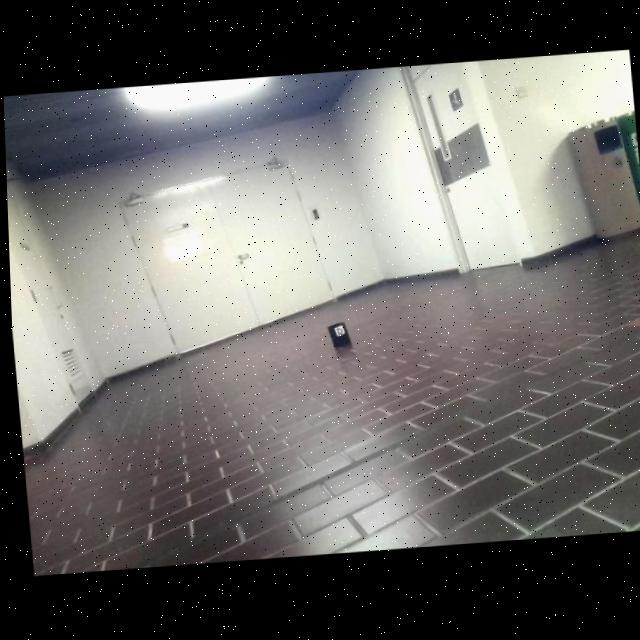D: (333, 329, 342, 338)
